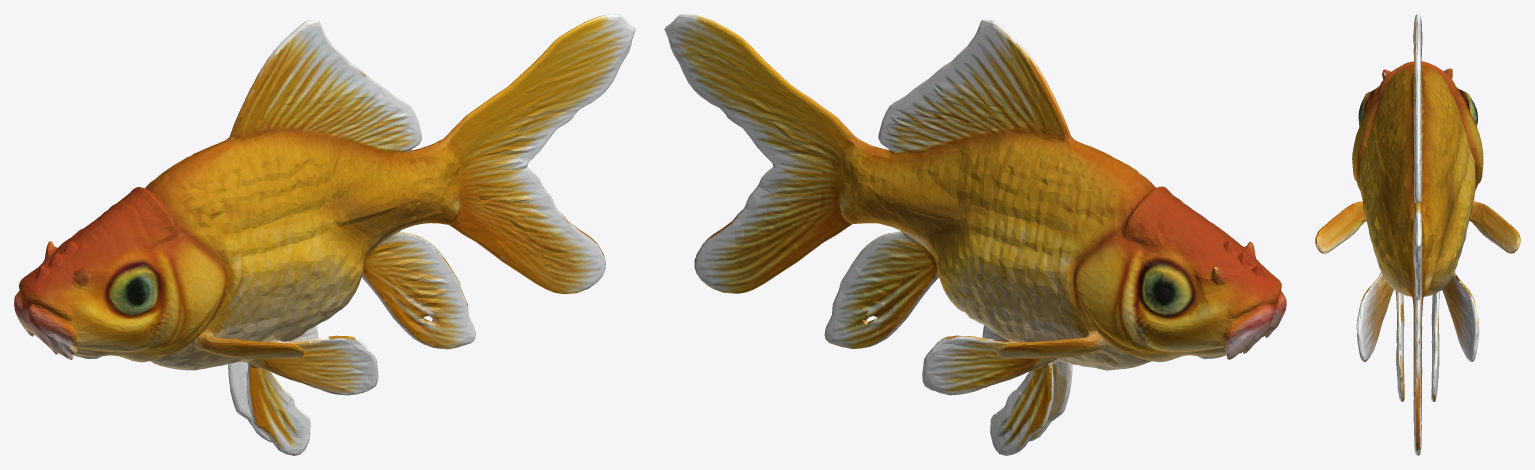
The model's file is final_check_octopus_mesh.glb.
The picture shows the model from 3 angles, left to right: view 1: azimuth 30°, elevation 25°; view 2: azimuth 150°, elevation 25°; view 3: azimuth 270°, elevation 25°; orthographic projection. The views are drawn at different scales.
Visible parts, largest first — view 1: world; view 2: world; view 3: world.
Part boxes in pixels (x1,y1,x2,y2): world: [14, 14, 635, 455]; world: [664, 14, 1286, 455]; world: [1315, 14, 1520, 455].
Bounding box in the file's own units: 1.99 × 1.32 × 0.6198.
1 material, 1 textured.
